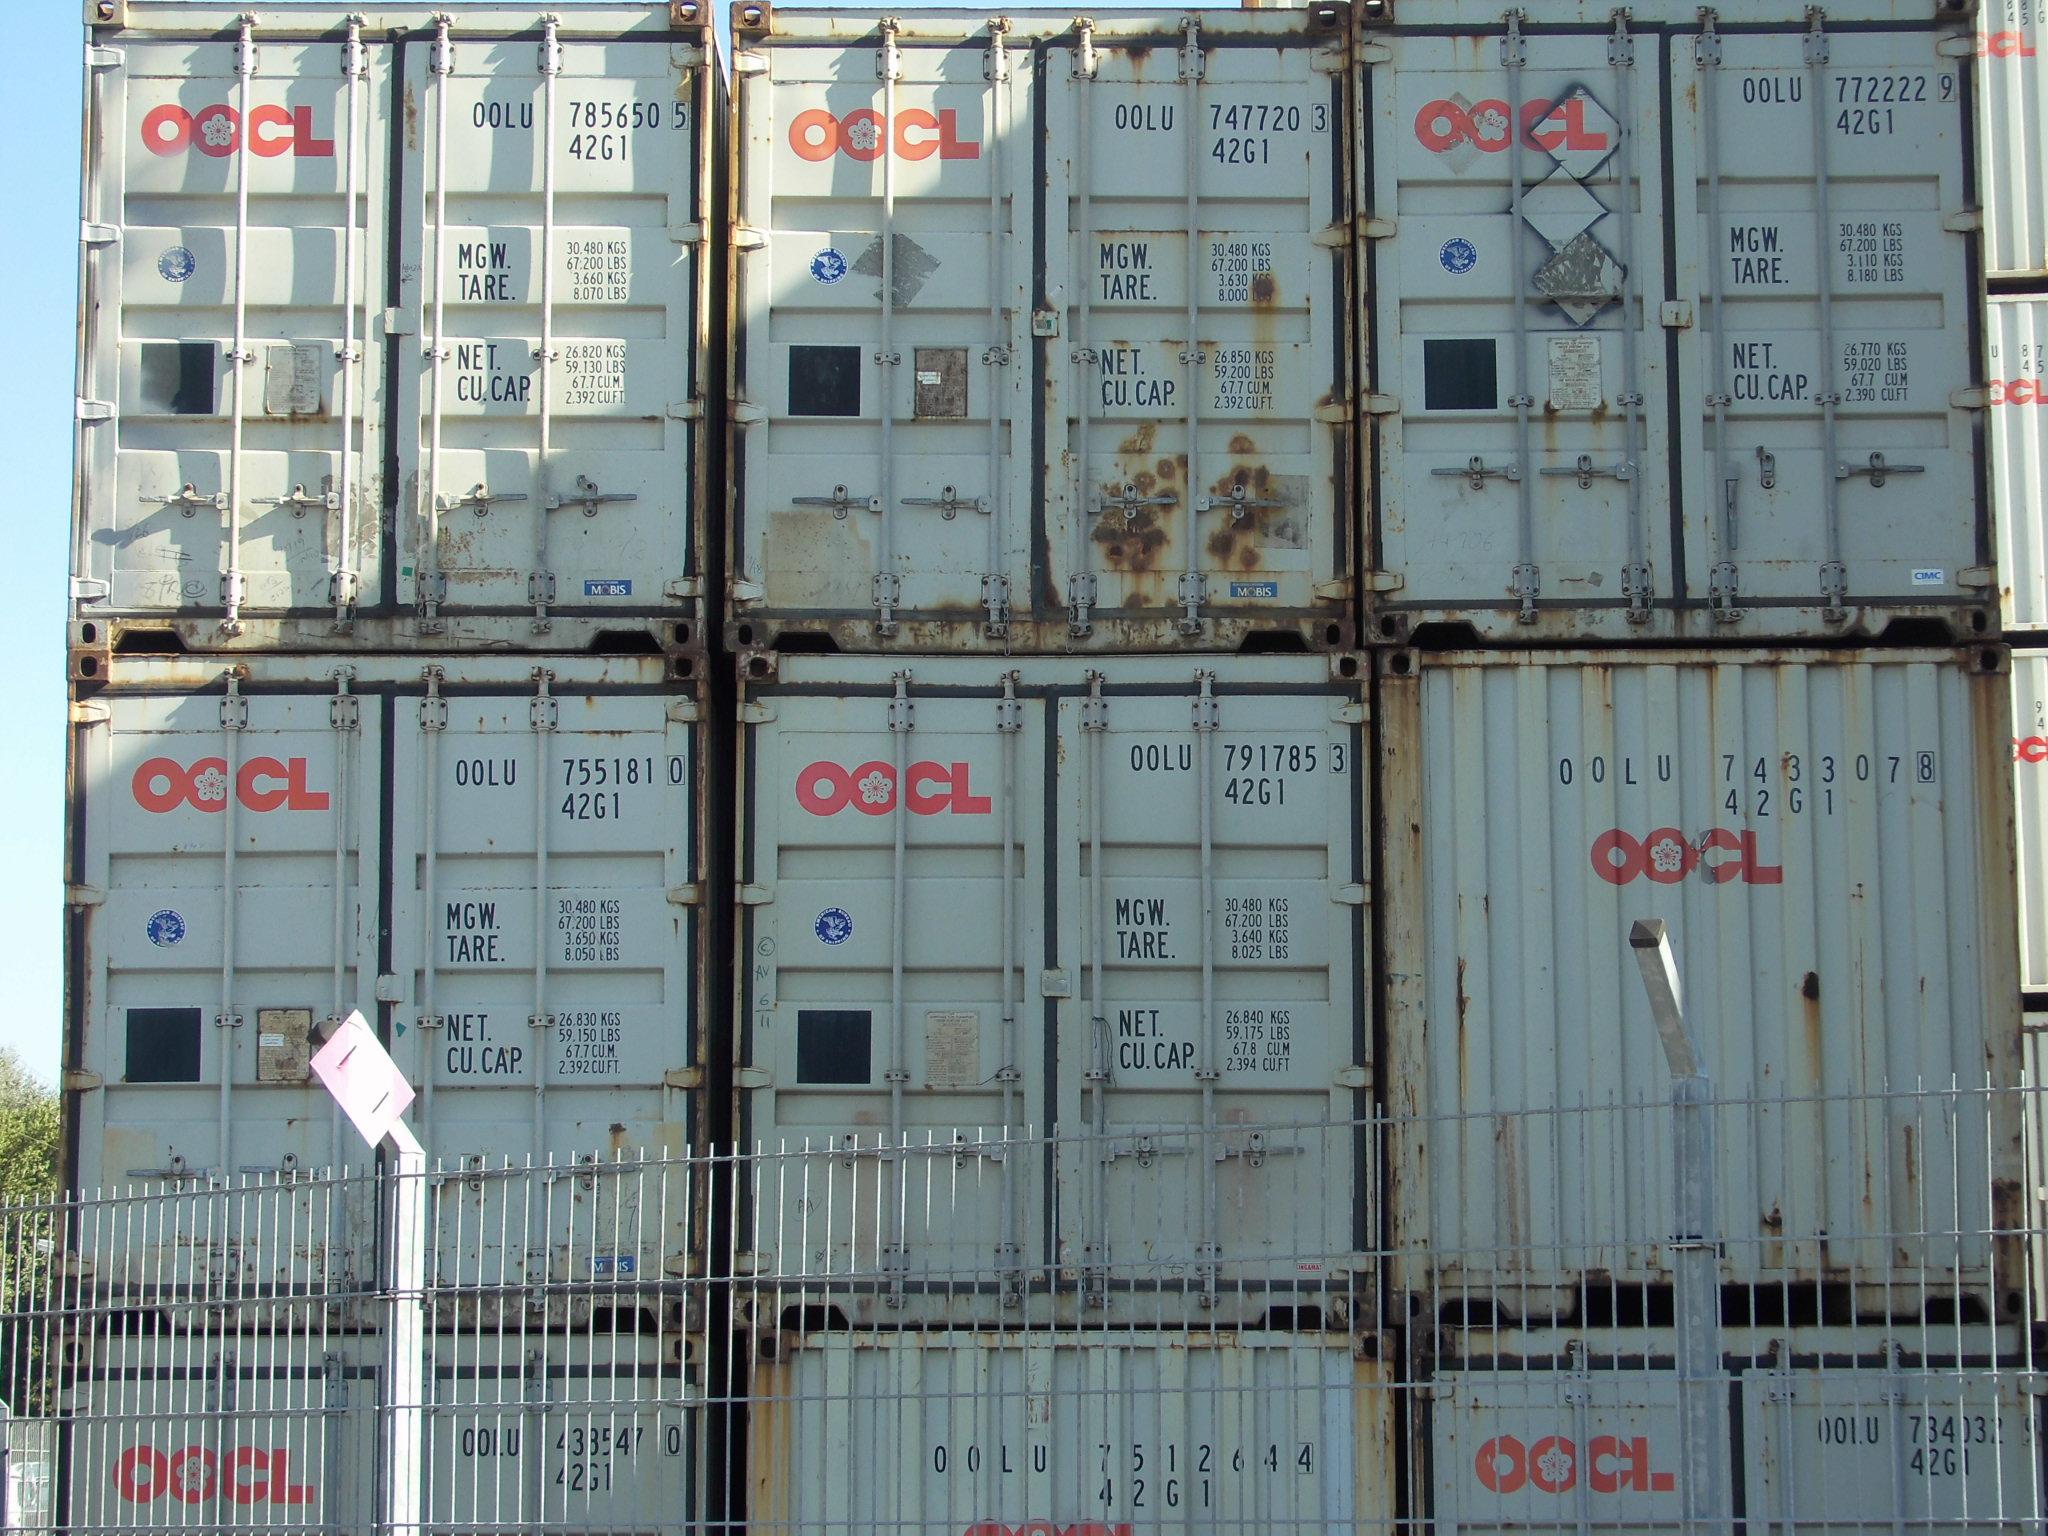container_door: (79, 2, 710, 642), (69, 647, 700, 1288), (748, 657, 1379, 1297), (735, 5, 1361, 649), (1377, 2, 2003, 644)
container_no_door: (1379, 645, 2038, 1312)
